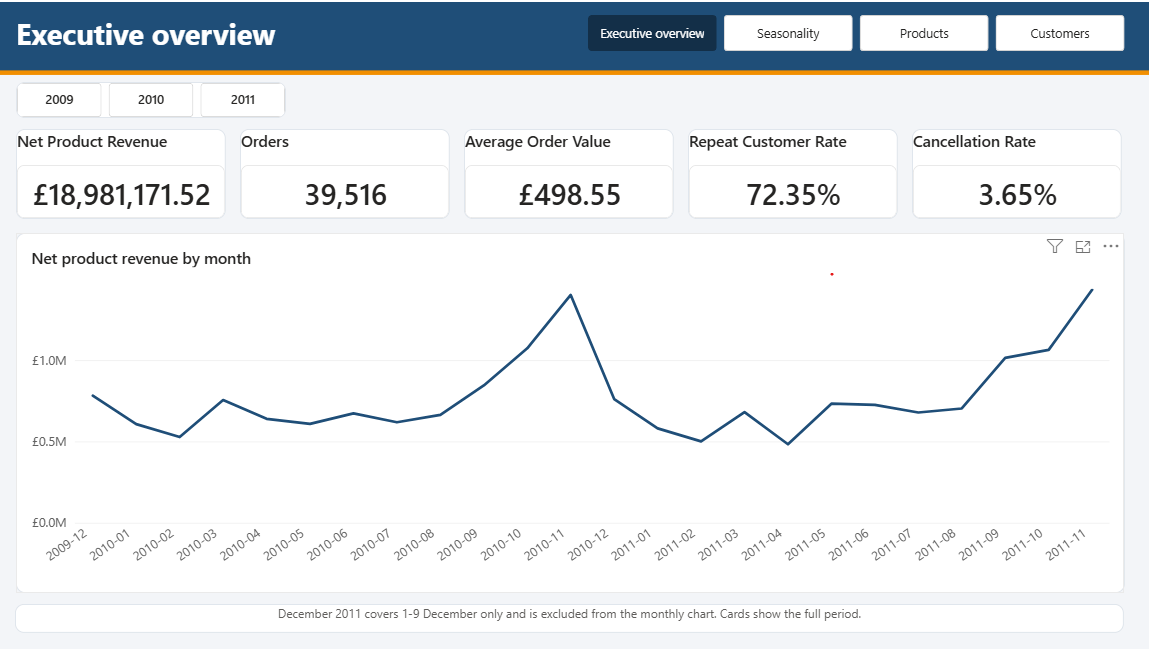

What the dashboard file says about the page in this screenshot:
{"tool":"powerbi","page":{"name":"Executive overview","canvas":[1920,1080],"ordinal":0},"visuals":[{"type":"cardVisual","title":"Net Product Revenue","fields":{"Data":["_Measures.Net Product Revenue (card)"]},"box":[340.7,318.4,233,100],"z":0},{"type":"cardVisual","title":"Orders","fields":{"Data":["_Measures.Orders (card)"]},"box":[589.7,318.4,233,100],"z":1000},{"type":"cardVisual","title":"Average Order Value","fields":{"Data":["_Measures.AOV"]},"box":[838.7,318.4,233,100],"z":2000},{"type":"cardVisual","title":"Repeat Customer Rate","fields":{"Data":["_Measures.Repeat Customer Rate"]},"box":[1087.7,318.4,233,100],"z":3000},{"type":"cardVisual","title":"Cancellation Rate","fields":{"Data":["_Measures.Cancellation Rate"]},"box":[1336.7,318.4,233,100],"z":4000},{"type":"lineChart","title":"Net product revenue by month","fields":{"Category":["dim_date.Year-month"],"Y":["_Measures.Net Product Revenue (complete months)"]},"box":[340.7,434.4,1232,400],"z":5000},{"type":"advancedSlicerVisual","fields":{"Values":["dim_date.Year"]},"box":[340.7,266.4,300,40],"z":6000},{"type":"textbox","box":[339.7,846.4,1232,32],"z":7000},{"type":"textbox","box":[341.1,190.4,600,48],"z":8000},{"type":"pageNavigator","box":[976.7,192.4,596,40],"z":9000}]}

Visuals, with their boxes in screenshot pixels (x1, y1, x2, y2), scaled from the page's 1920x1080 canvas onto the 1150x649 screenshot:
"Net Product Revenue" cardVisual: <bbox>204, 191, 344, 251</bbox>
"Orders" cardVisual: <bbox>353, 191, 493, 251</bbox>
"Average Order Value" cardVisual: <bbox>502, 191, 642, 251</bbox>
"Repeat Customer Rate" cardVisual: <bbox>651, 191, 791, 251</bbox>
"Cancellation Rate" cardVisual: <bbox>801, 191, 940, 251</bbox>
"Net product revenue by month" lineChart: <bbox>204, 261, 942, 501</bbox>
advancedSlicerVisual - dim_date.Year: <bbox>204, 160, 384, 184</bbox>
textbox: <bbox>203, 509, 941, 528</bbox>
textbox: <bbox>204, 114, 564, 143</bbox>
pageNavigator: <bbox>585, 116, 942, 140</bbox>
